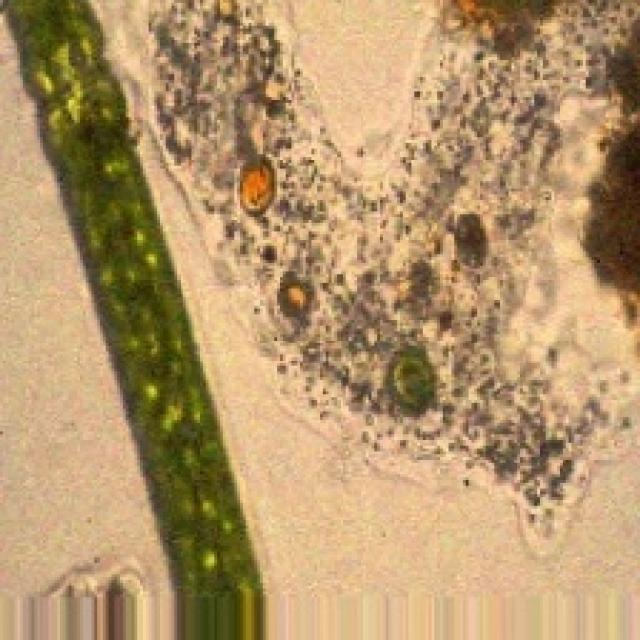Amoeba: (147, 0, 637, 550), (0, 0, 269, 637)
